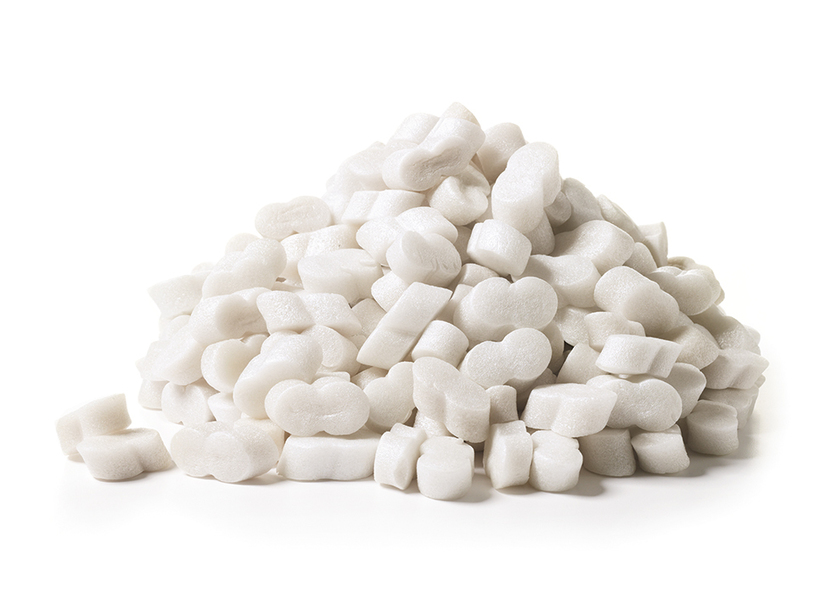Nonrec_Plastic: (42, 60, 775, 512)
